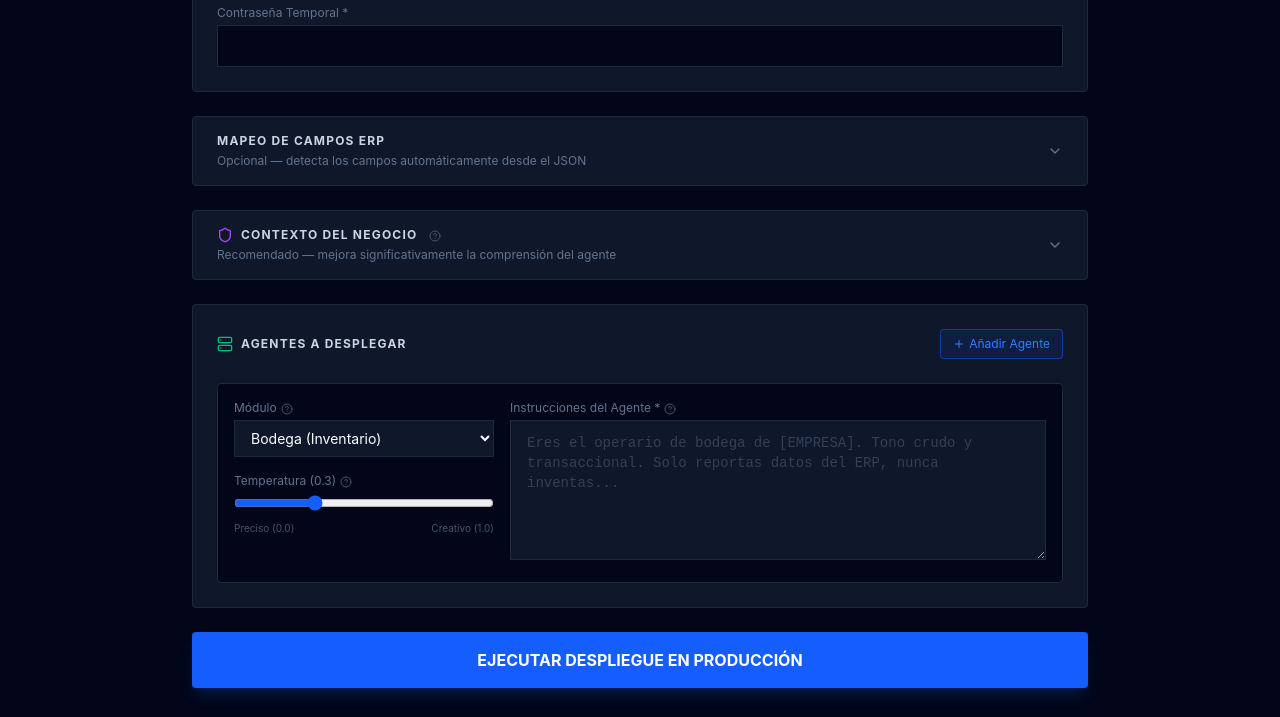
Test: RegisterB2B › cambiar template a "ventas" muestra panel de configuración de ventas
This screenshot has width=1280, height=717.
(page scrolled)
Select "Ventas (Comercial)" in the dropdown. click: (364, 438)
box: [234, 420, 494, 457]
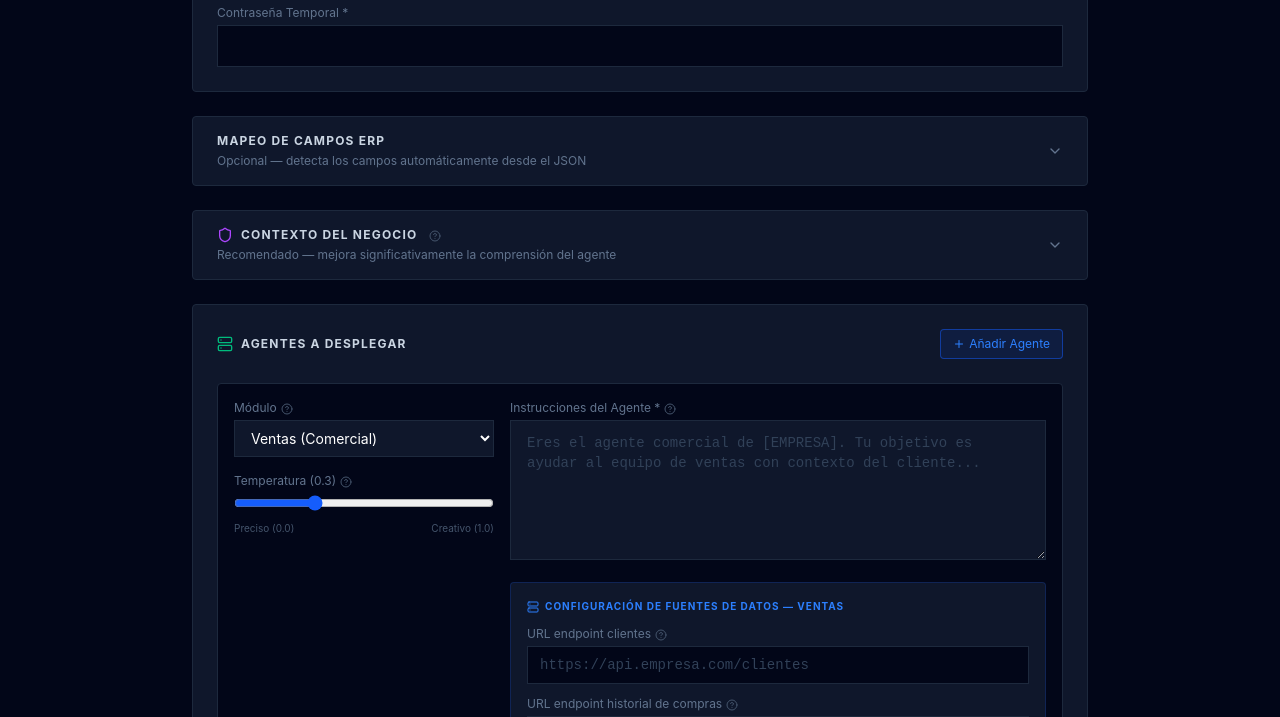
Expected: the text "Configuración de fuentes de datos — Ventas" is shown, [527, 600, 844, 612]
